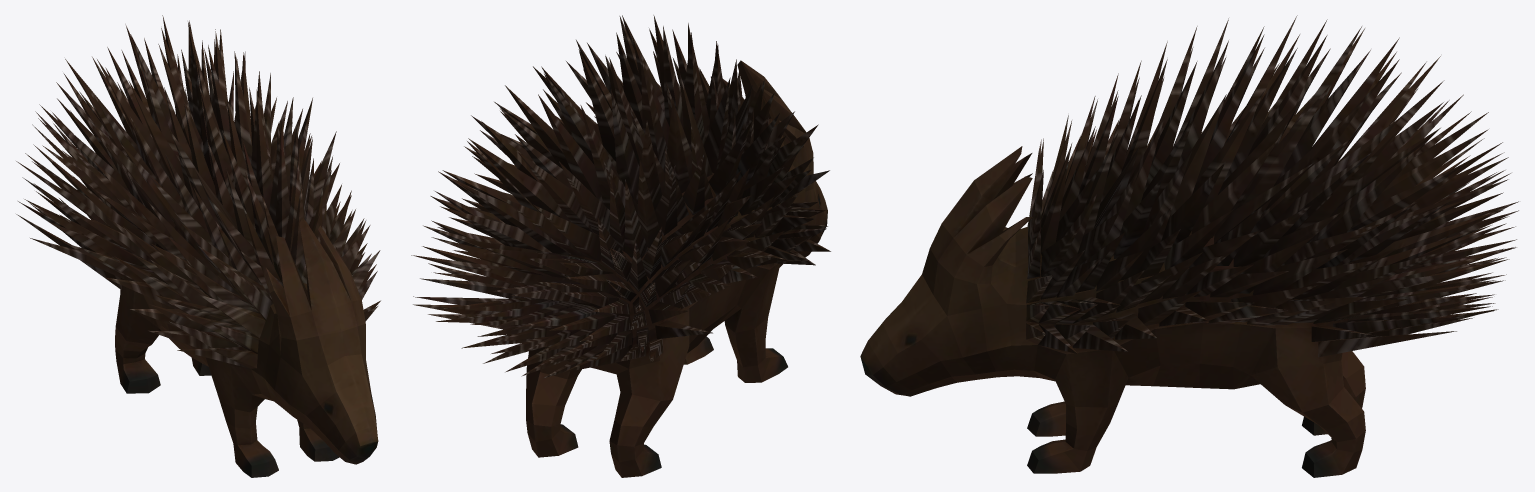
The model's file is Porcupine.glb.
3 renders of one model, left to right at view 1: azimuth 30°, elevation 25°; view 2: azimuth 150°, elevation 25°; view 3: azimuth 270°, elevation 25°, orthographic. The views are drawn at different scales.
Visible parts, largest first — view 1: Porcupine_mesh; view 2: Porcupine_mesh; view 3: Porcupine_mesh.
Boxes of the visible parts, x1,y1,x2,y2 form: Porcupine_mesh: (16, 15, 380, 477); Porcupine_mesh: (411, 15, 830, 477); Porcupine_mesh: (860, 15, 1518, 477).
Size of the model in its own units: 0.9689 by 1.29 by 1.83.
1 material, 1 textured.
